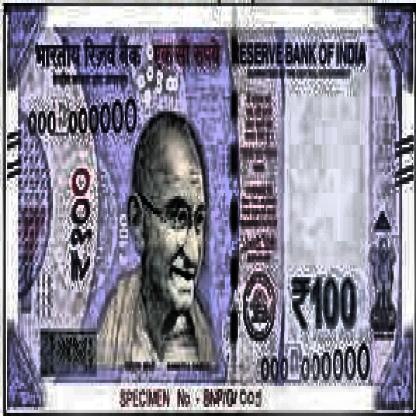Rs100: (287, 265, 365, 344)
